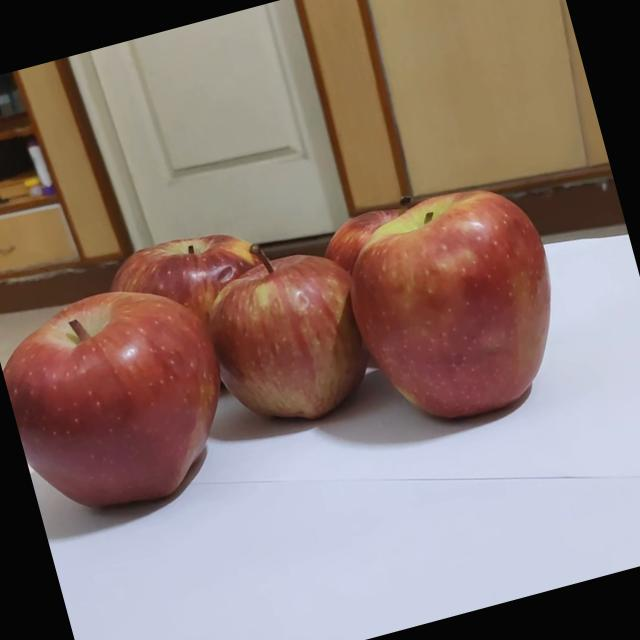apple: (0, 273, 287, 572), (75, 212, 312, 443), (372, 180, 602, 415), (218, 240, 422, 444), (306, 186, 478, 354)
